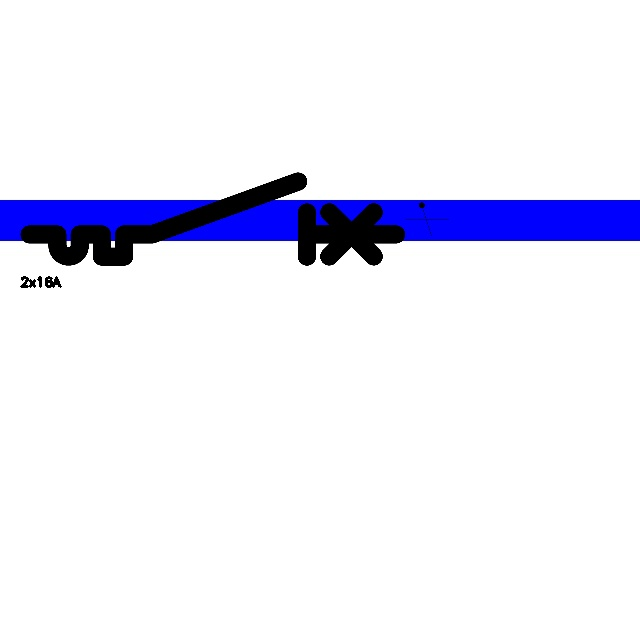interruptor_termomagnetico: (20, 172, 406, 266)
